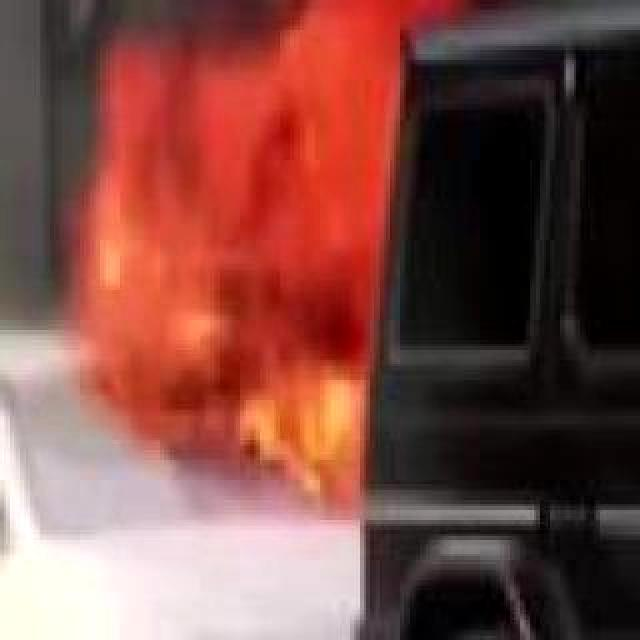fire: (116, 0, 488, 464)
